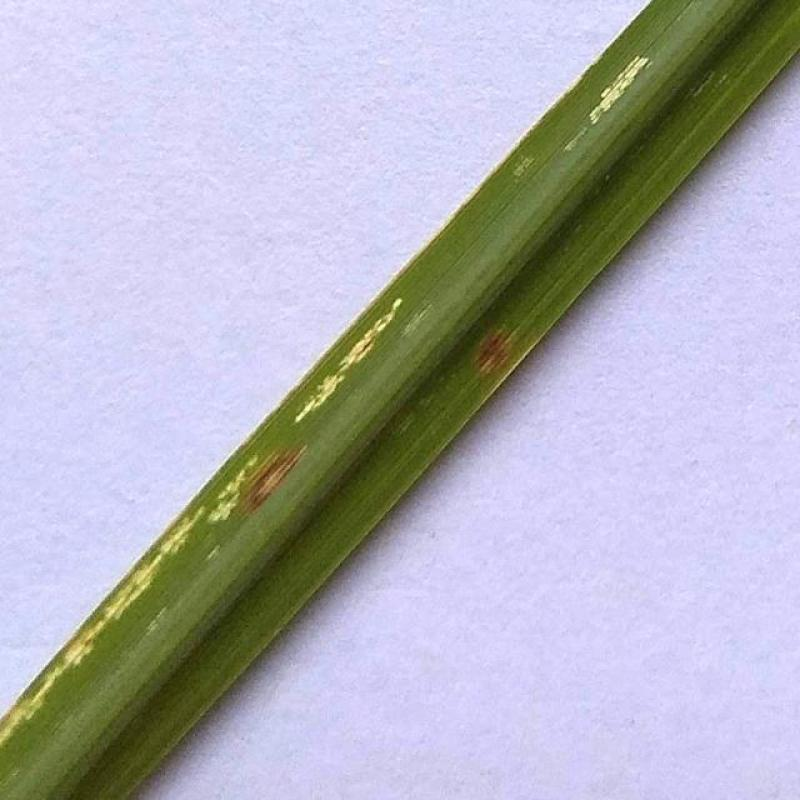Leaf_Blast: (399, 278, 575, 458), (200, 390, 350, 584)
